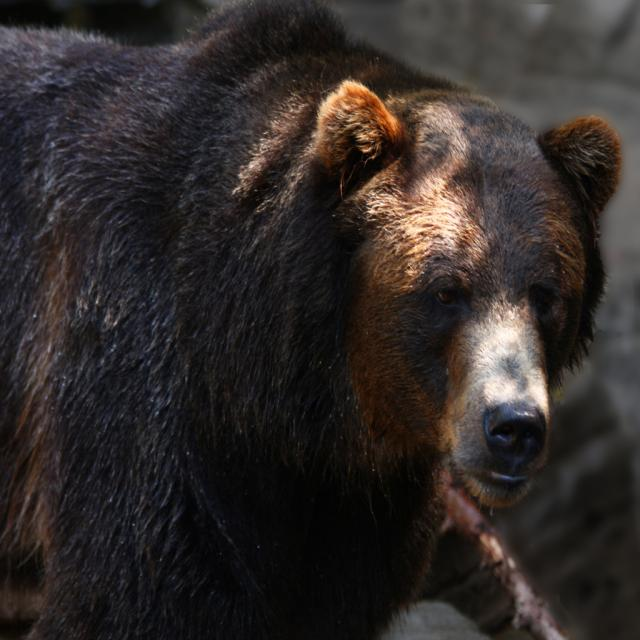Buffalo: (0, 0, 620, 639)
